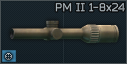Schmidt & Bender PM II 1-8x24 scope: (0, 0, 127, 64)
